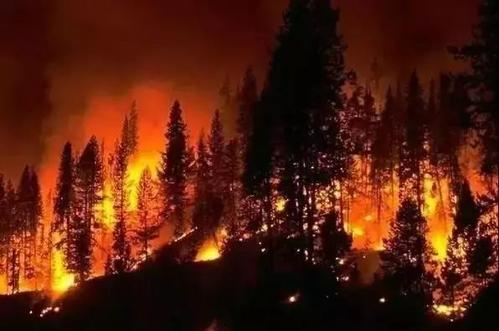fire: (102, 155, 159, 209), (345, 194, 389, 255), (425, 183, 457, 256), (50, 250, 78, 291), (197, 245, 220, 264)
smoke: (11, 23, 212, 139), (359, 6, 485, 120)
